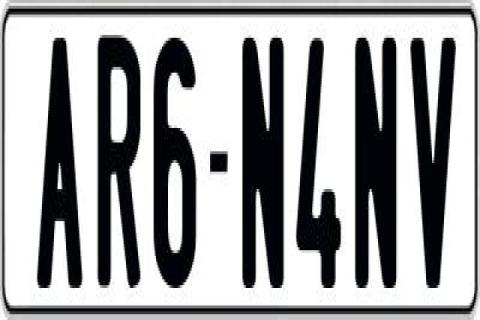0: (293, 29, 345, 297), (152, 32, 199, 296)
A: (36, 35, 88, 299)
N: (354, 35, 400, 294), (243, 38, 284, 300)
R: (98, 35, 140, 303)
V: (410, 38, 462, 306)
